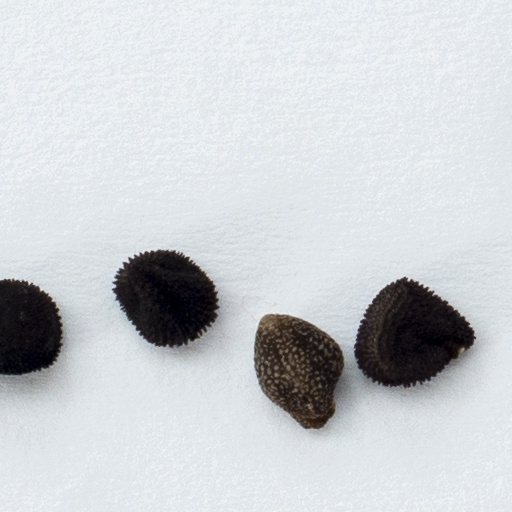Agrostemma-poly: (354, 271, 478, 388)
Convolvulus-poly: (253, 315, 348, 441)
